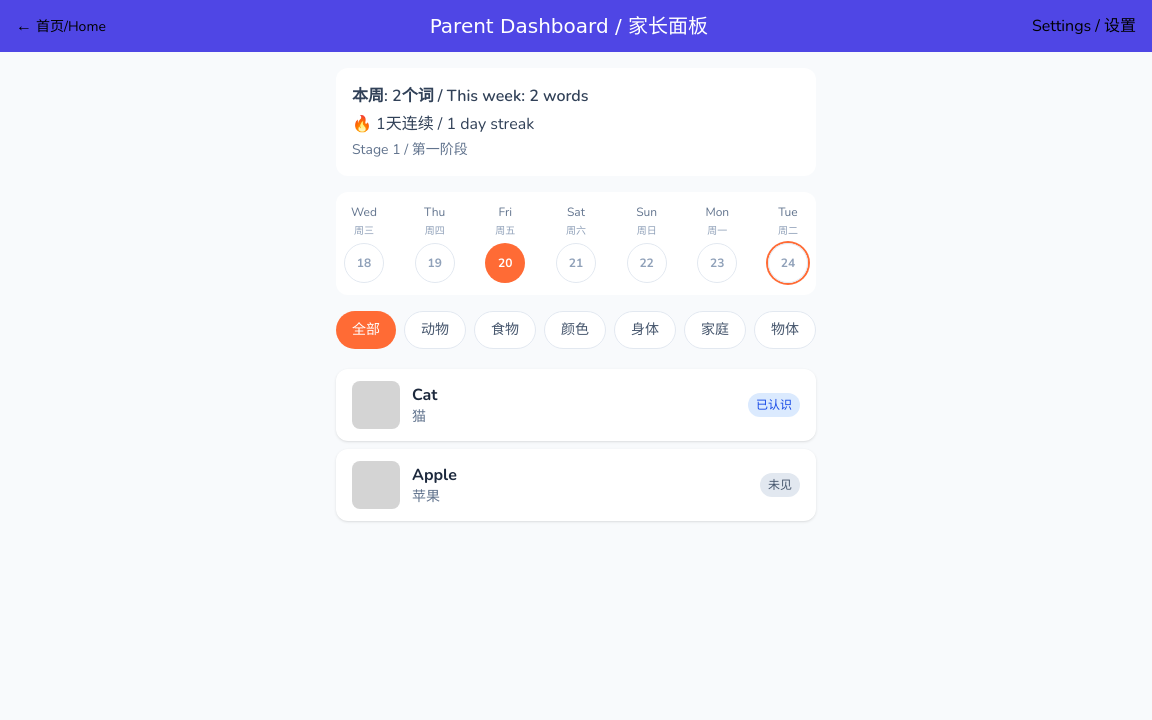
it: ParentDashboard › opens WordDetailSheet when word row clicked
The image size is (1152, 720).
Click the button with test id "word-row": (376, 405) [336,369,816,441]
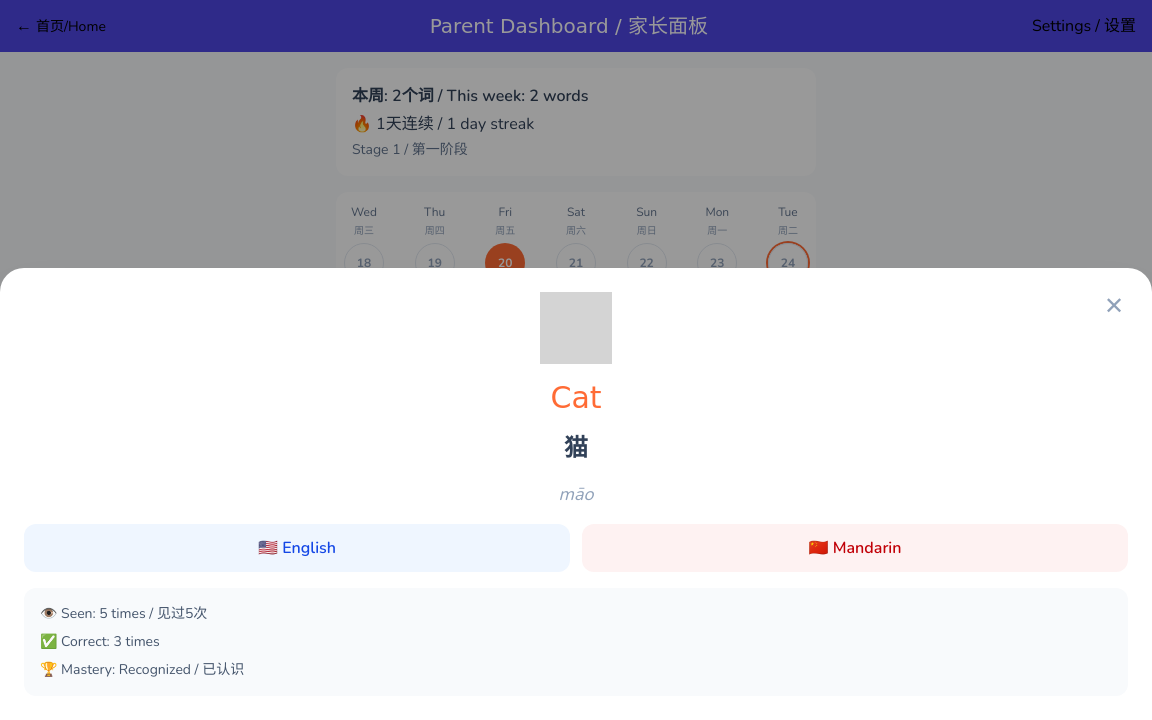
Result: the element with test id "word-detail-sheet" is shown
